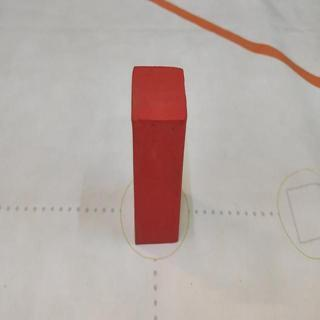redbox: (131, 65, 186, 245)
